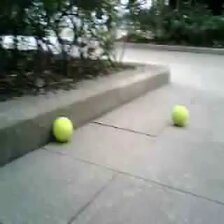tennis: (52, 116, 73, 139), (171, 105, 189, 125)
